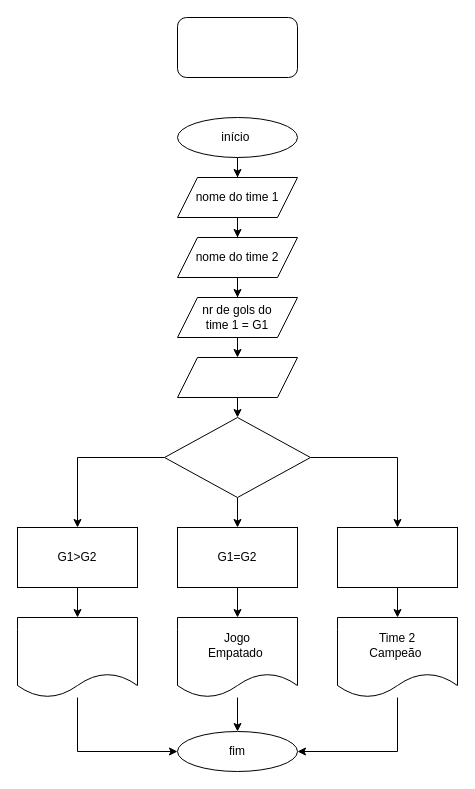
Image size: 475x789. Some labels were removed from this diagram. The shapes that lost their labels are listed below. From the top down, each one's centre as x and y in pixels, then its label:
At (x=237, y=47): "Placar Digital da Globo".
At (x=237, y=377): "nr de gols do time 2 = G2".
At (x=237, y=457): "comparar G1 com G2".
At (x=397, y=557): "G1<G2".
At (x=77, y=657): "Time 1 Campeão".
